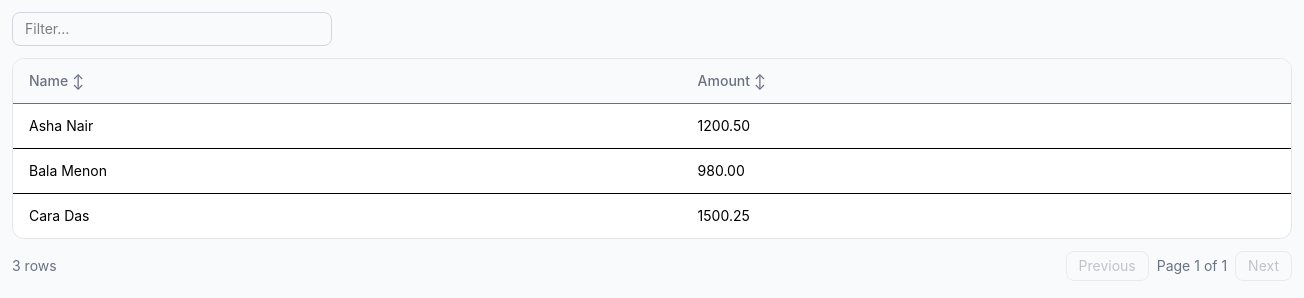
Scenario: DataTable › filters the rows
Type "bala" into the search field named "Filter rows" at (172, 29), box top-left (12, 12), bottom-right (332, 46)
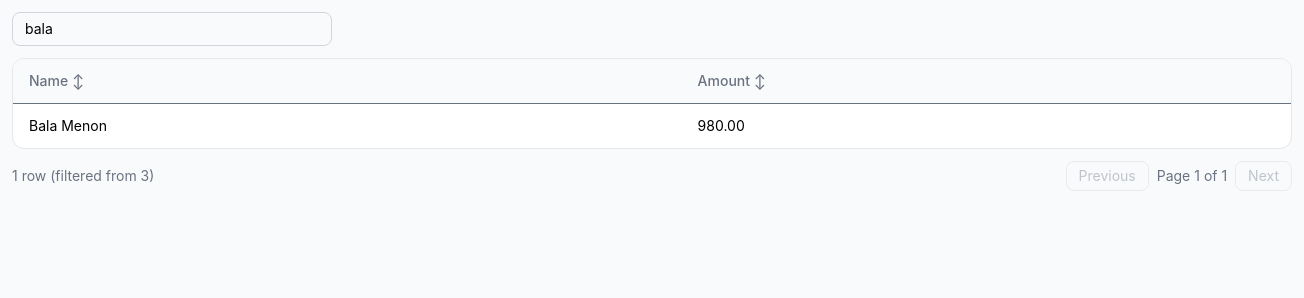
Expected: the text "Bala Menon" is shown, top-left (13, 104), bottom-right (682, 148)
Expected: the text "Asha Nair" is gone
Expected: the text "1 row (filtered from 3)" is shown, top-left (12, 166), bottom-right (154, 186)
